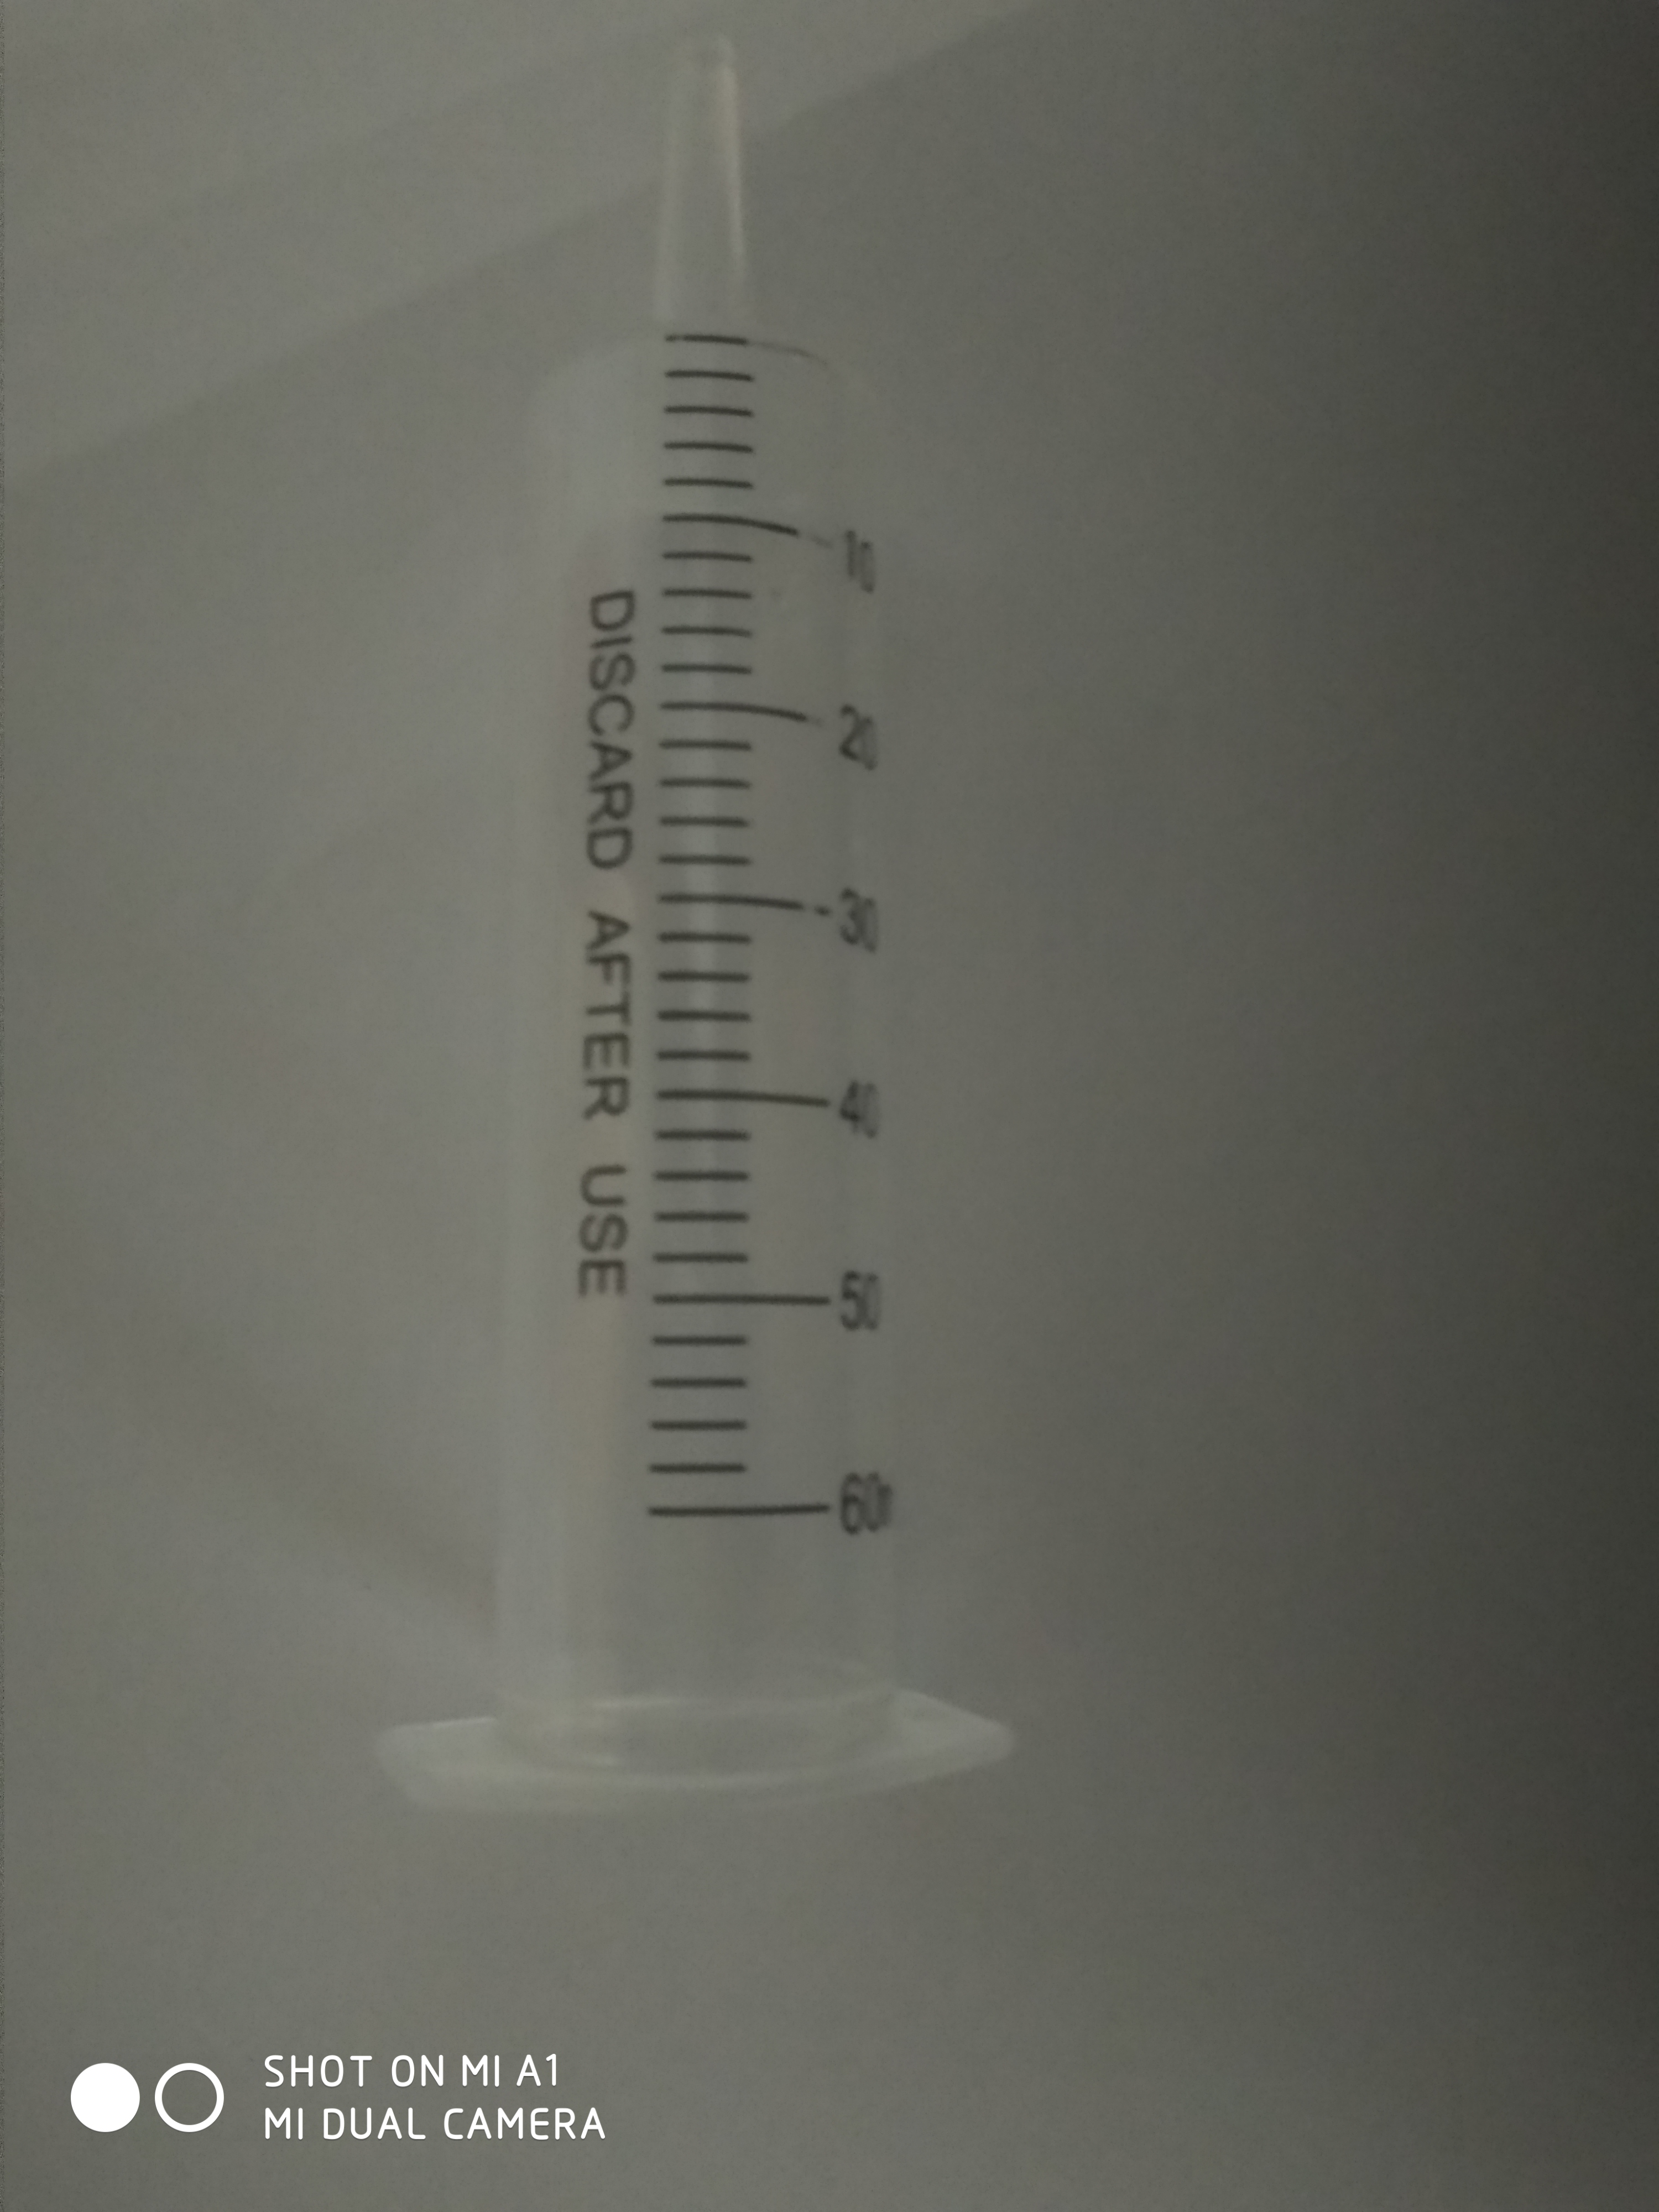syringe: (368, 31, 1033, 1810)
